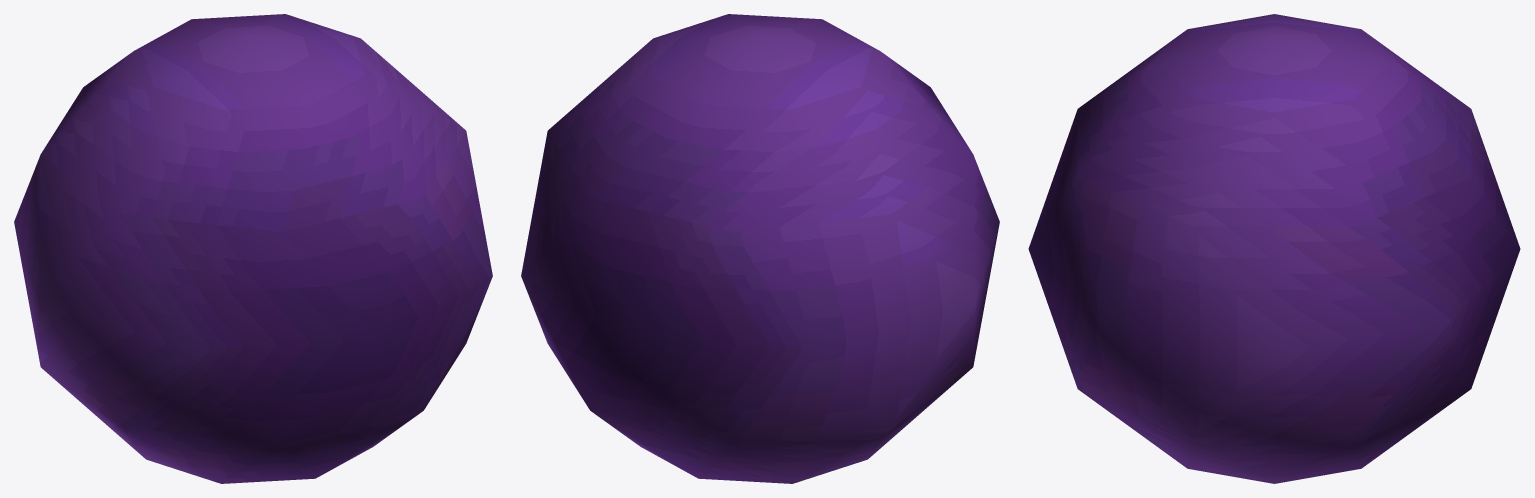
File: Gastly.obj
3 renders of one model, left to right at view 1: azimuth 30°, elevation 25°; view 2: azimuth 150°, elevation 25°; view 3: azimuth 270°, elevation 25°, orthographic.
Parts seen in each view (by area): view 1: merged_0_0_node; view 2: merged_0_0_node; view 3: merged_0_0_node.
Part boxes in pixels (x1,y1,x2,y2): merged_0_0_node: (14,14,492,483); merged_0_0_node: (521,14,999,483); merged_0_0_node: (1028,14,1520,483).
Size of the model in its own units: 0.4715 by 0.4469 by 0.4715.
3 materials, 3 textured.
